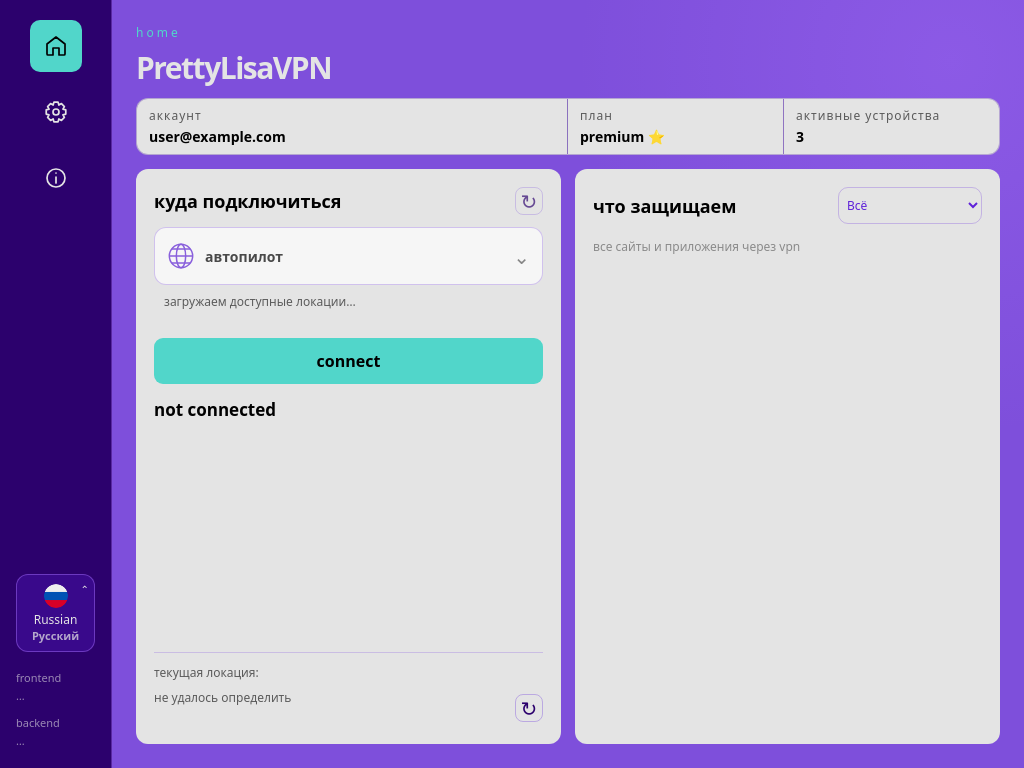
Test: authenticated Home › preserves the session when logout fails temporarily
The width and height of the screenshot is (1024, 768).
What coordinates should you click on to do the following:
click the link named "настройки"
I would click on:
 (56, 112)
Its box is [44,100,68,124].
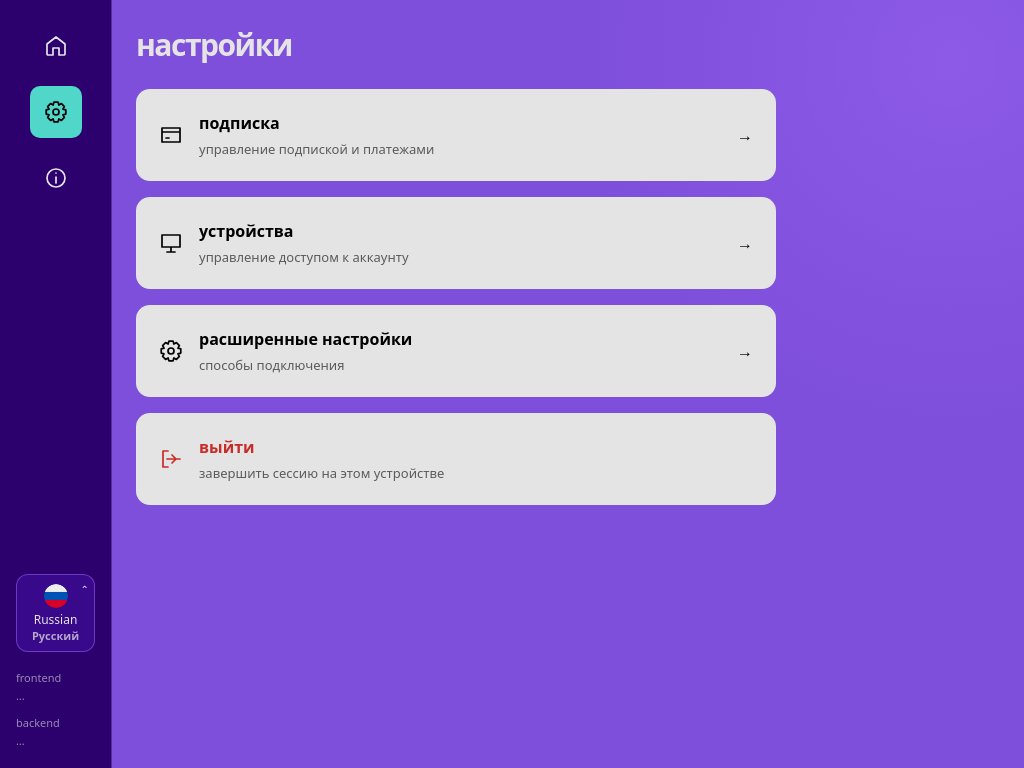
What coordinates should you click on to do the following:
click the button "выйти Завершить сессию на этом устройстве"
I would click on:
 (227, 447)
Its box is [136,413,776,505].
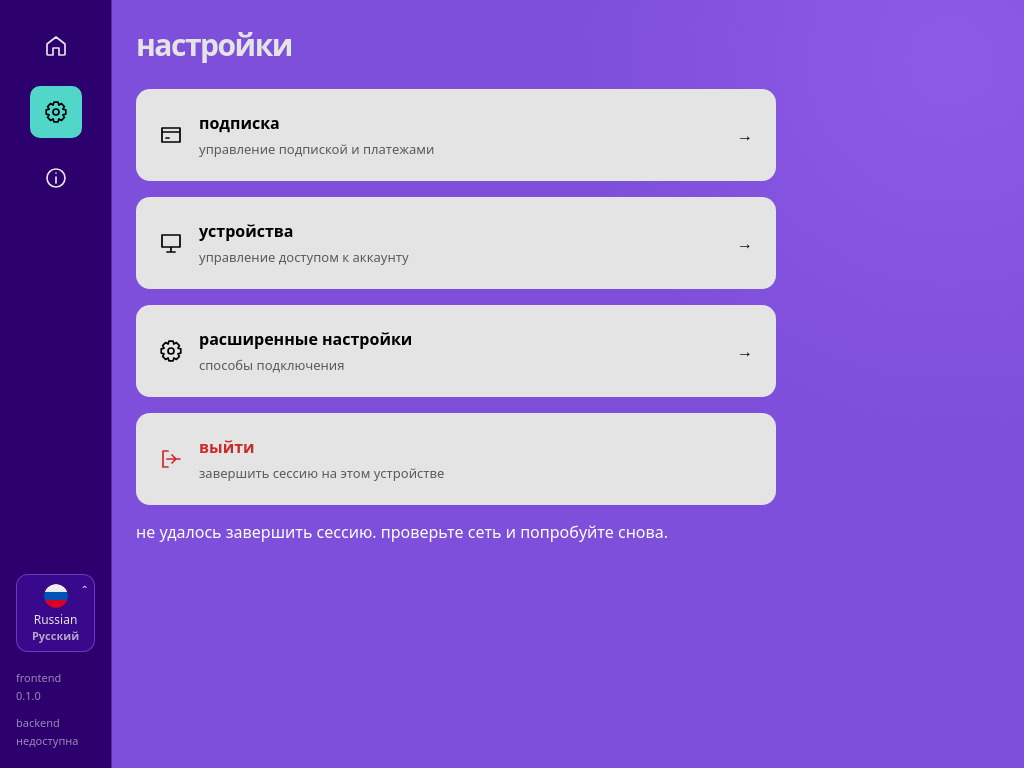
Expected: the message shows "Не удалось завершить сессию", [136,521,668,543]
